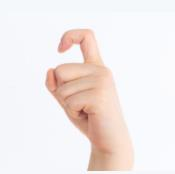anticlockwise: (42, 26, 126, 148)
